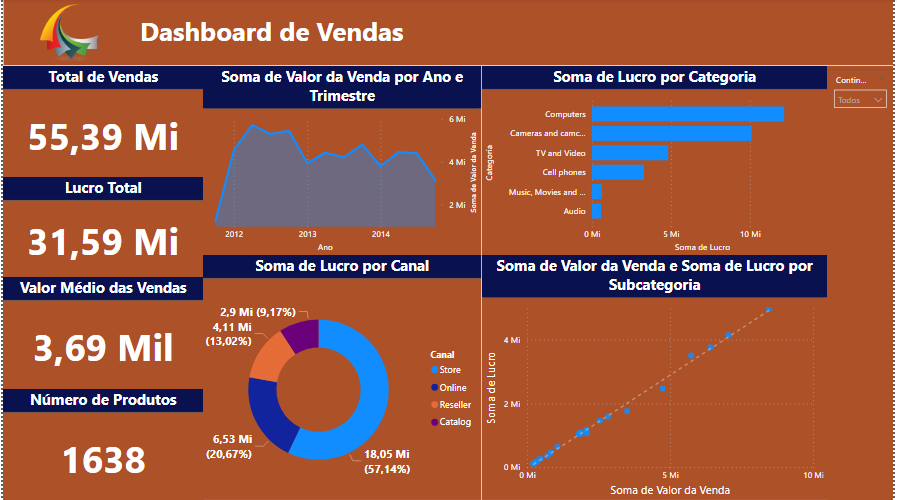

What the dashboard file says about the page in this screenshot:
{"tool":"powerbi","page":{"name":"Dash vendas","canvas":[1280,720],"ordinal":0},"visuals":[{"type":"shape","box":[0,0,1280,96],"z":0},{"type":"textbox","box":[176,16,432,80],"z":1000},{"type":"image","box":[0,0,192,96],"z":2000},{"type":"shape","box":[0,96,288,624],"z":3000},{"type":"card","title":"Total de Vendas ","fields":{"Values":["Sum(Data1.Valor da Venda)"]},"box":[0,96,288,160],"z":4000},{"type":"card","title":"Lucro Total","fields":{"Values":["Sum(Data1.Lucro)"]},"box":[0,256,288,144],"z":5000},{"type":"card","title":"Valor Médio das Vendas ","fields":{"Values":["Avg(Data1.Valor da Venda)"]},"box":[0,400,288,160],"z":6000},{"type":"card","title":"Número de Produtos","fields":{"Values":["Count(Data1.Produto)"]},"box":[0,560,288,160],"z":7000},{"type":"areaChart","fields":{"Category":["Data1.Data Venda.Variation.Hierarquia de datas.Ano","Data1.Data Venda.Variation.Hierarquia de datas.Trimestre","Data1.Data Venda.Variation.Hierarquia de datas.Mês","Data1.Data Venda.Variation.Hierarquia de datas.Dia"],"Y2":["Sum(Data1.Valor da Venda)"]},"box":[288,96,400,272],"z":8000},{"type":"clusteredBarChart","fields":{"Category":["Data1.Categoria"],"Y":["Sum(Data1.Lucro)"]},"box":[688,96,496,272],"z":9000},{"type":"donutChart","fields":{"Y":["Sum(Data1.Lucro)"],"Category":["Data1.Canal"]},"box":[288,368,400,352],"z":10000},{"type":"scatterChart","fields":{"Category":["Data1.Subcategoria"],"X":["Sum(Data1.Valor da Venda)"],"Y":["Sum(Data1.Lucro)"]},"box":[688,368,496,352],"z":11000},{"type":"slicer","fields":{"Values":["Data1.Continente"]},"box":[1184,96,96,624],"z":12000}]}

Visuals, with their boxes in screenshot pixels (x1, y1, x2, y2), scaled from the page's 1280x720 canvas onto the 897x500 screenshot:
shape: bbox=(0, 0, 896, 67)
textbox: bbox=(123, 11, 426, 67)
image: bbox=(0, 0, 135, 67)
shape: bbox=(0, 67, 202, 499)
"Total de Vendas " card: bbox=(0, 67, 202, 178)
"Lucro Total" card: bbox=(0, 178, 202, 278)
"Valor Médio das Vendas " card: bbox=(0, 278, 202, 389)
"Número de Produtos" card: bbox=(0, 389, 202, 499)
areaChart - Data1.Data Venda.Variation.Hierarquia de datas.Ano x Data1.Data Venda.Variation.Hierarquia de datas.Trimestre: bbox=(202, 67, 482, 256)
clusteredBarChart - Data1.Categoria x Sum(Data1.Lucro): bbox=(482, 67, 830, 256)
donutChart - Sum(Data1.Lucro) x Data1.Canal: bbox=(202, 256, 482, 499)
scatterChart - Data1.Subcategoria x Sum(Data1.Valor da Venda): bbox=(482, 256, 830, 499)
slicer - Data1.Continente: bbox=(830, 67, 896, 499)
